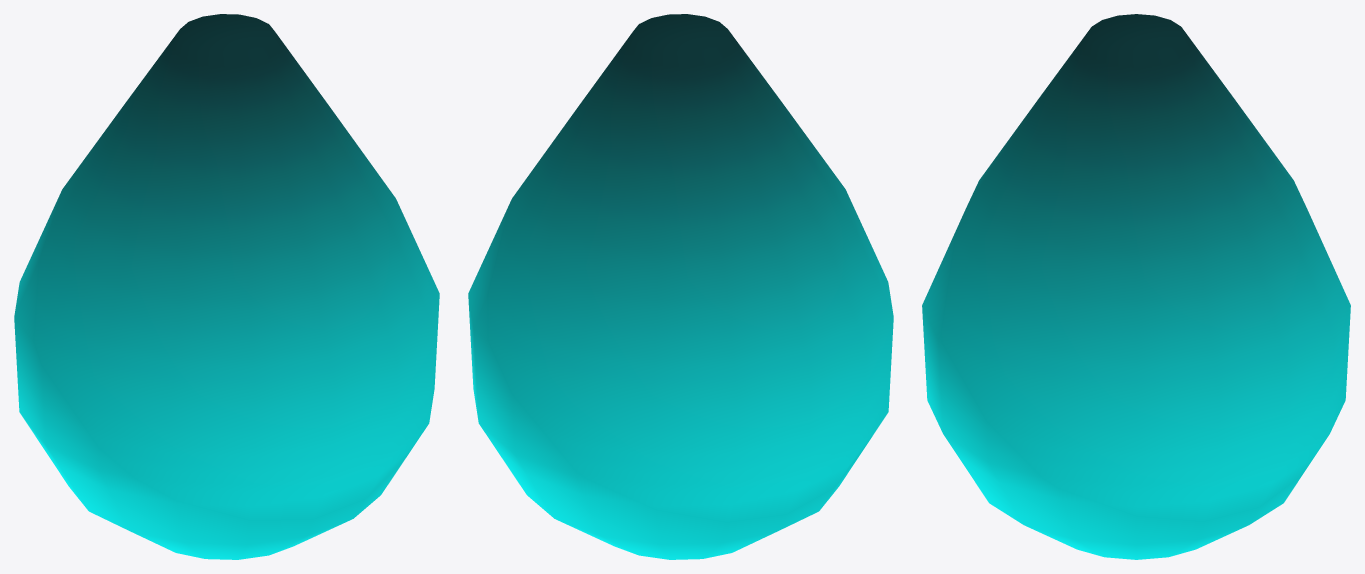
The model's file is WaterDrop_85.glb.
3 renders of one model, left to right at view 1: azimuth 30°, elevation 25°; view 2: azimuth 150°, elevation 25°; view 3: azimuth 270°, elevation 25°, orthographic.
Visible parts, largest first — view 1: WaterDrop_85; view 2: WaterDrop_85; view 3: WaterDrop_85.
Boxes of the visible parts, x1,y1,x2,y2 form: WaterDrop_85: [14, 14, 439, 559]; WaterDrop_85: [468, 14, 893, 559]; WaterDrop_85: [922, 14, 1350, 559].
Bounding box in the file's own units: 0.5885 × 0.7567 × 0.5885.
1 material, 1 textured.
